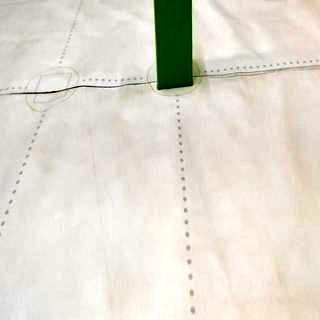greenbox: (152, 0, 197, 89)
